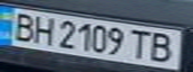0: (90, 22, 109, 55)
1: (72, 20, 93, 52)
2: (54, 18, 78, 51)
9: (106, 25, 130, 57)
B: (145, 29, 181, 64), (6, 10, 39, 43)
H: (27, 13, 57, 46)
T: (127, 27, 154, 61)
